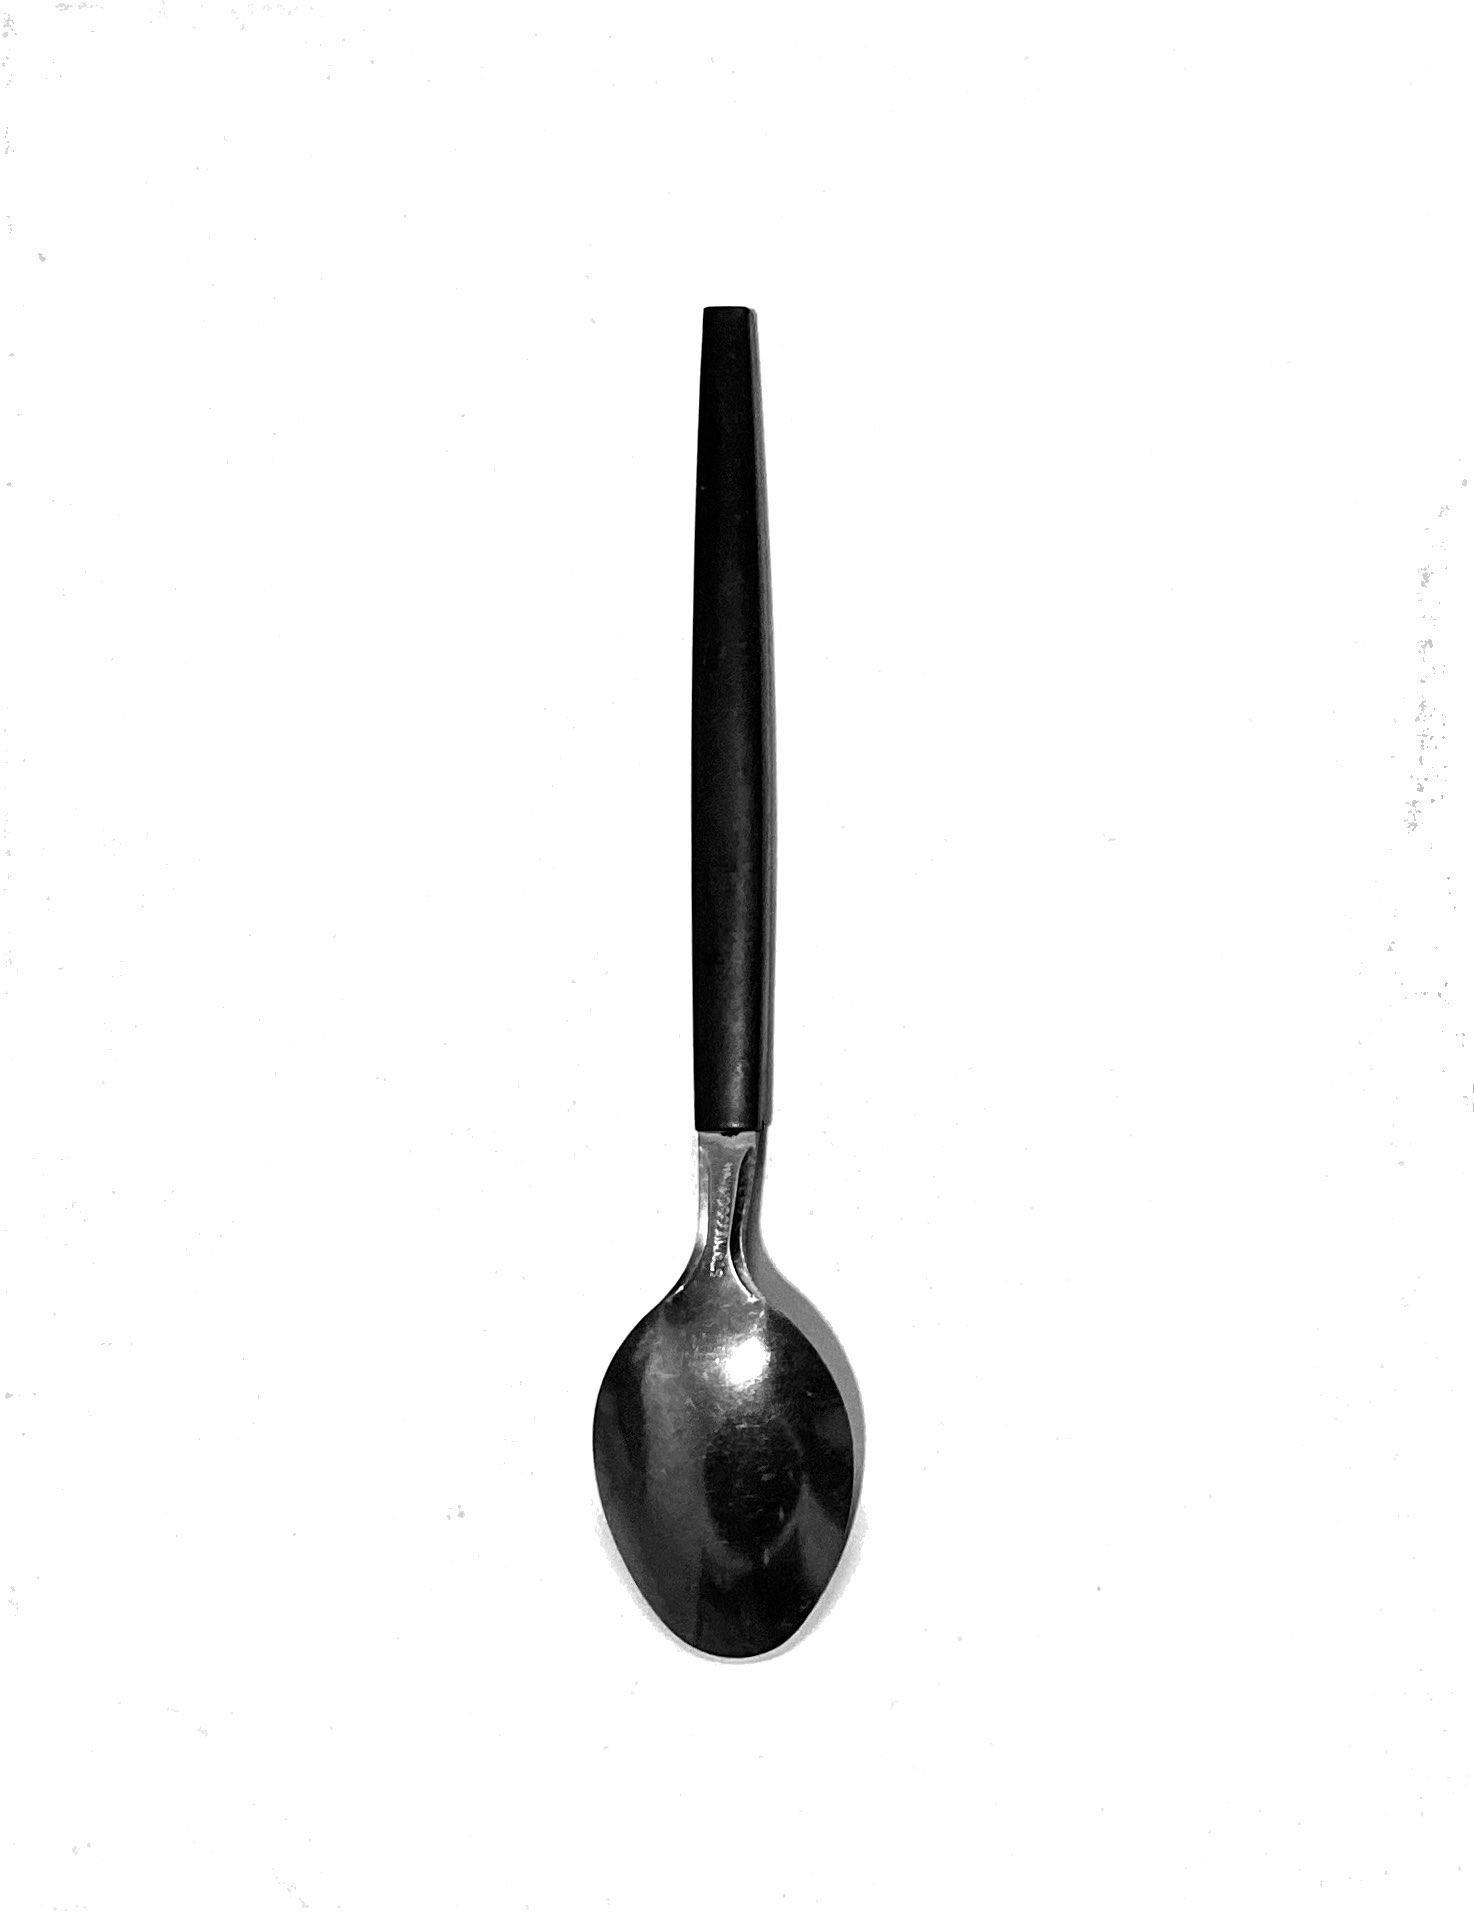Spoon: (562, 223, 1037, 1784)
